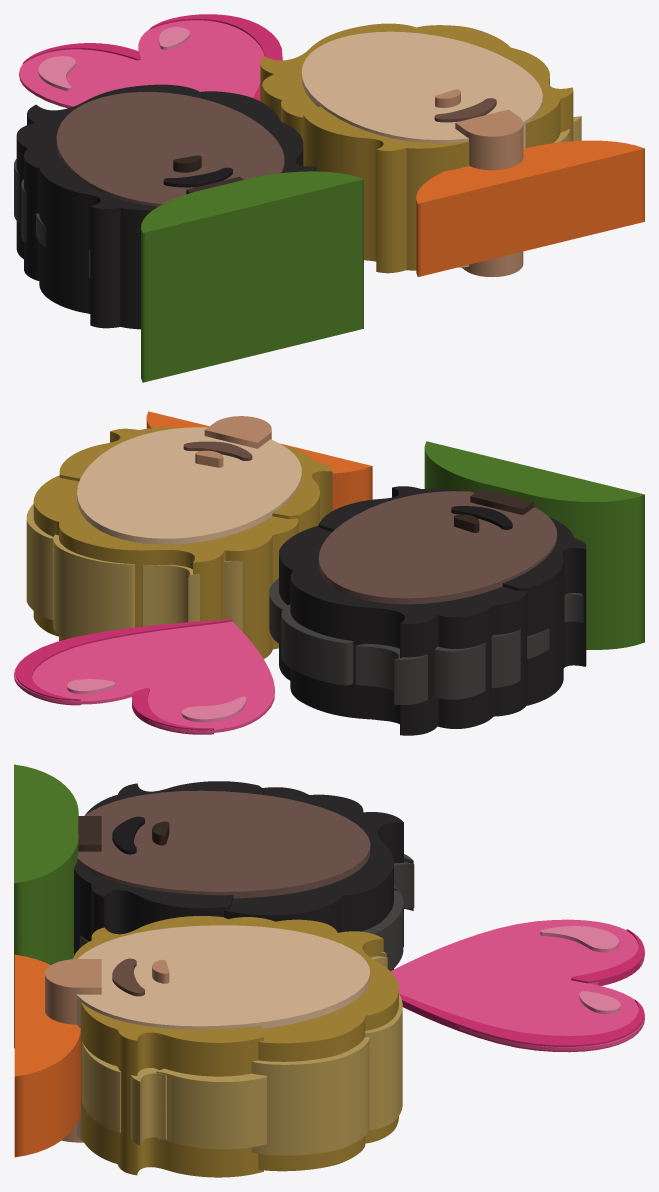
The model's file is emoji_u1f9d1_1f3ff_200d_2764_200d_1f9d1_1f3fc.glb.
The picture shows the model from 3 angles, top to bottom: view 1: azimuth 30°, elevation 25°; view 2: azimuth 150°, elevation 25°; view 3: azimuth 270°, elevation 25°; orthographic projection. The views are drawn at different scales.
Visible parts, largest first — view 1: emoji_u1f9d1_1f3ff_200d_2764_200d_1f9d1_1f3fc; view 2: emoji_u1f9d1_1f3ff_200d_2764_200d_1f9d1_1f3fc; view 3: emoji_u1f9d1_1f3ff_200d_2764_200d_1f9d1_1f3fc.
Part boxes in pixels (x1,y1,x2,y2): emoji_u1f9d1_1f3ff_200d_2764_200d_1f9d1_1f3fc: (14,14,644,382); emoji_u1f9d1_1f3ff_200d_2764_200d_1f9d1_1f3fc: (14,411,644,735); emoji_u1f9d1_1f3ff_200d_2764_200d_1f9d1_1f3fc: (14,764,644,1177).
Bounding box in the file's own units: 0.0345 × 0.0098 × 0.034.
